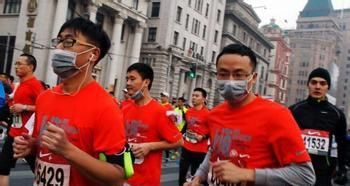NONE: (310, 80, 327, 98), (16, 61, 30, 78), (192, 93, 203, 106)
OK: (219, 65, 253, 103)
WRONG: (52, 35, 89, 78), (126, 77, 147, 99)
